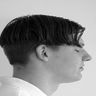ear: (29, 40, 55, 67)
